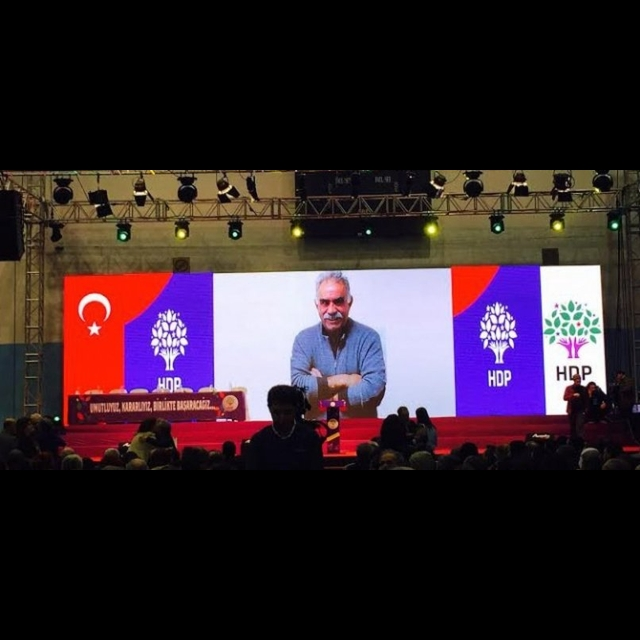APO: (307, 276, 364, 337)
HDP: (540, 294, 600, 360)
